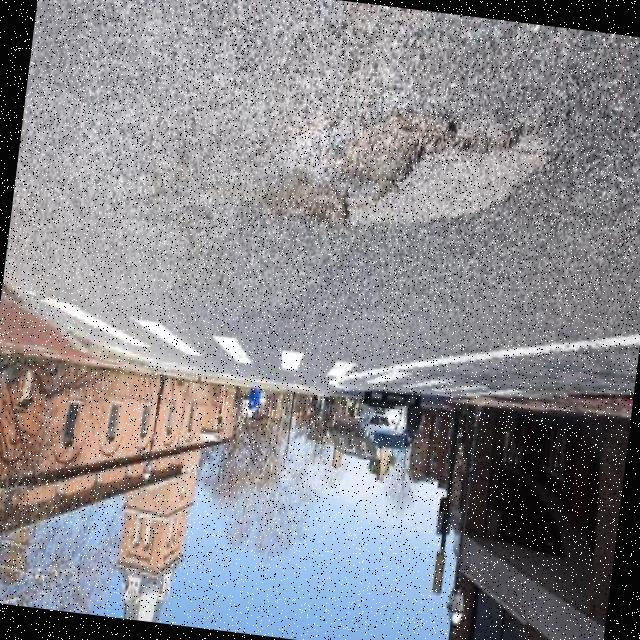Pothole: (349, 122, 545, 223)
